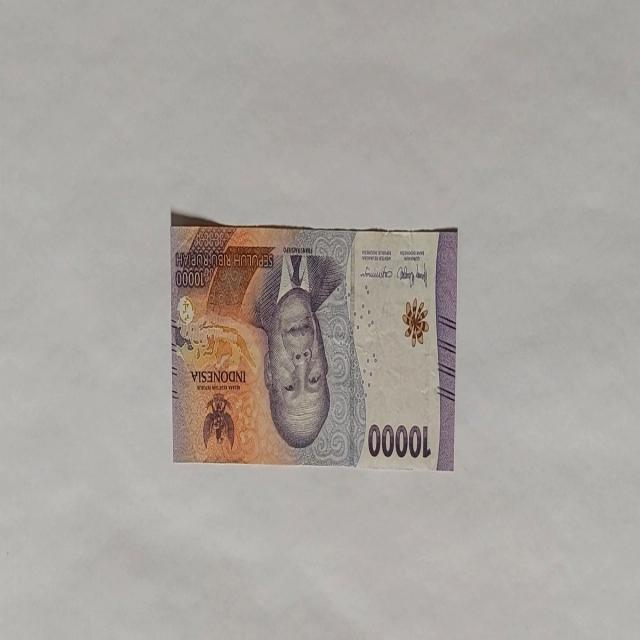sepuluh ribu rupiah: (170, 214, 458, 470), (251, 248, 343, 452)
